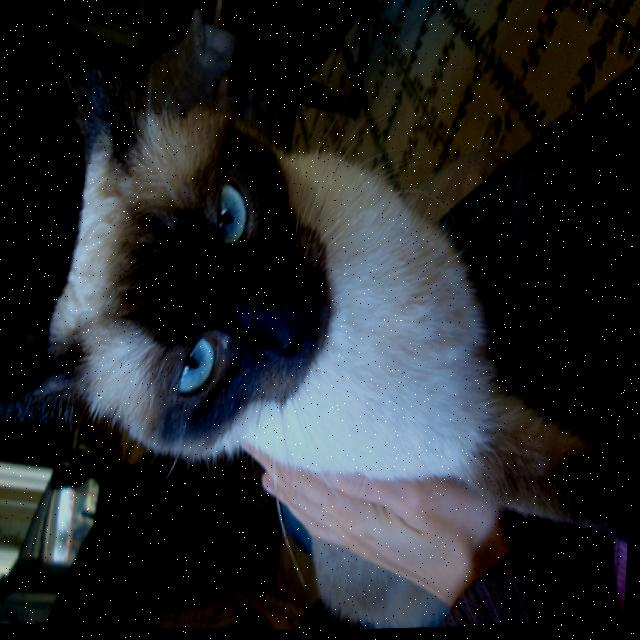Siamese: (0, 36, 640, 640)
